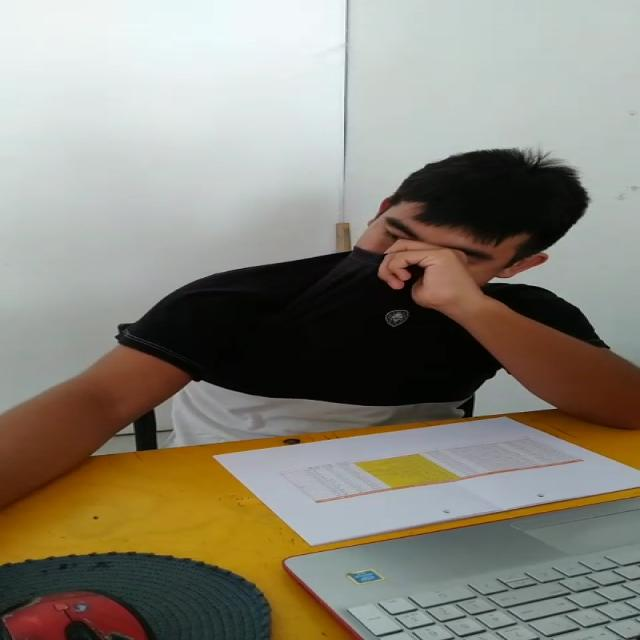8_ropa_rostro: (253, 239, 482, 363)
